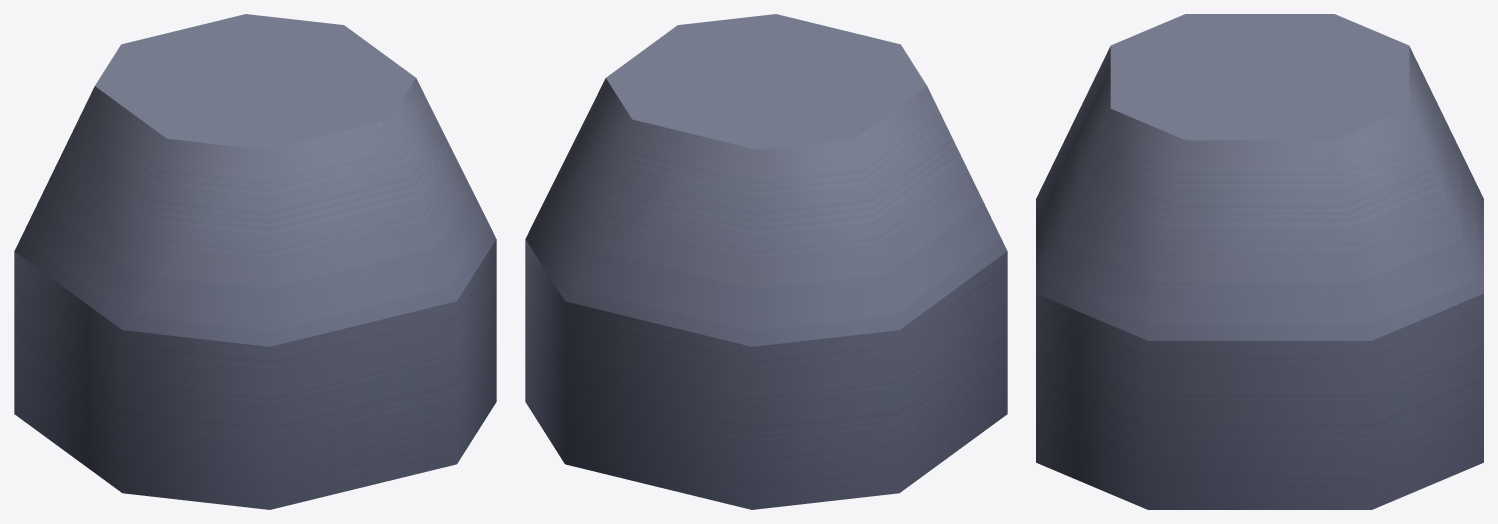
The model's file is support-single-bottom-col.glb.
3 views of the same model, side by side, from view 1: azimuth 30°, elevation 25°; view 2: azimuth 150°, elevation 25°; view 3: azimuth 270°, elevation 25° (orthographic). The views are drawn at different scales.
Parts seen in each view (by area): view 1: support-single-bottom-col; view 2: support-single-bottom-col; view 3: support-single-bottom-col.
Part boxes in pixels (x1,y1,x2,y2): support-single-bottom-col: [14, 14, 496, 509]; support-single-bottom-col: [525, 14, 1007, 509]; support-single-bottom-col: [1036, 14, 1483, 509].
Bounding box in the file's own units: 0.6 × 0.5 × 0.6.
Materials: 1 (1 with a texture image).
